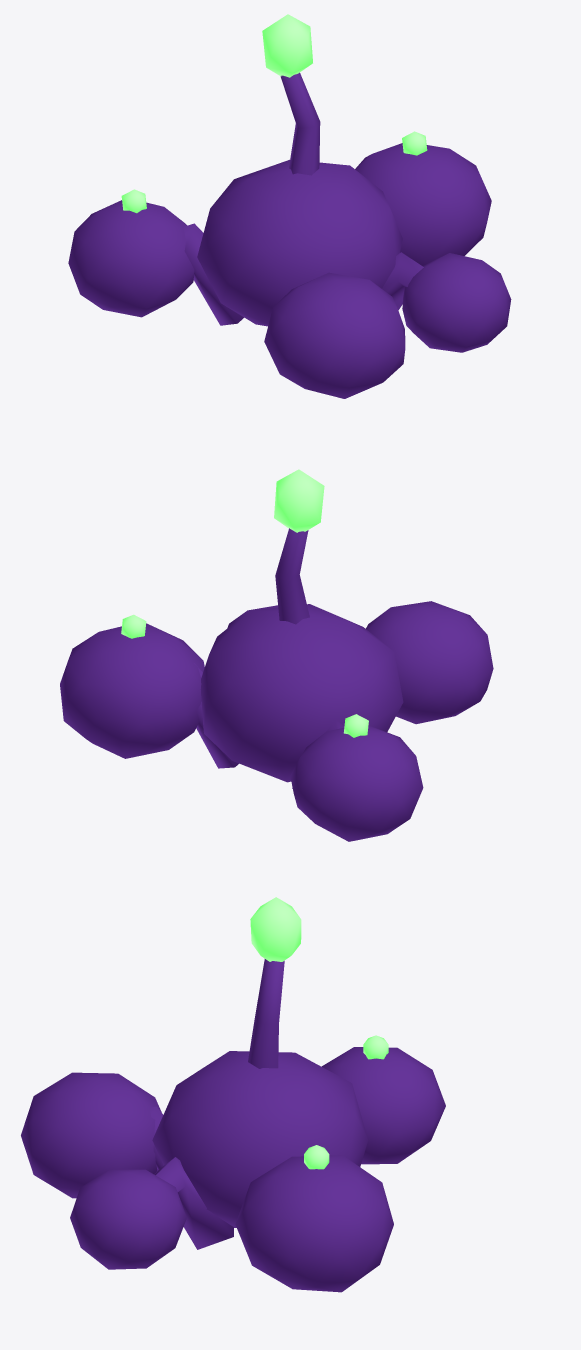
Rendered from resource_carbon.glb.
3 views of the same model, one above another, from view 1: azimuth 30°, elevation 25°; view 2: azimuth 150°, elevation 25°; view 3: azimuth 270°, elevation 25° (orthographic). The views are drawn at different scales.
Parts seen in each view (by area): view 1: Body; view 2: Body; view 3: Body.
Part boxes in pixels (x1=…): Body: x1=68, y1=14, x2=511, y2=398; Body: x1=60, y1=469, x2=493, y2=841; Body: x1=21, y1=897, x2=445, y2=1292.
Size of the model in its own units: 2.15 by 1.34 by 2.05.
